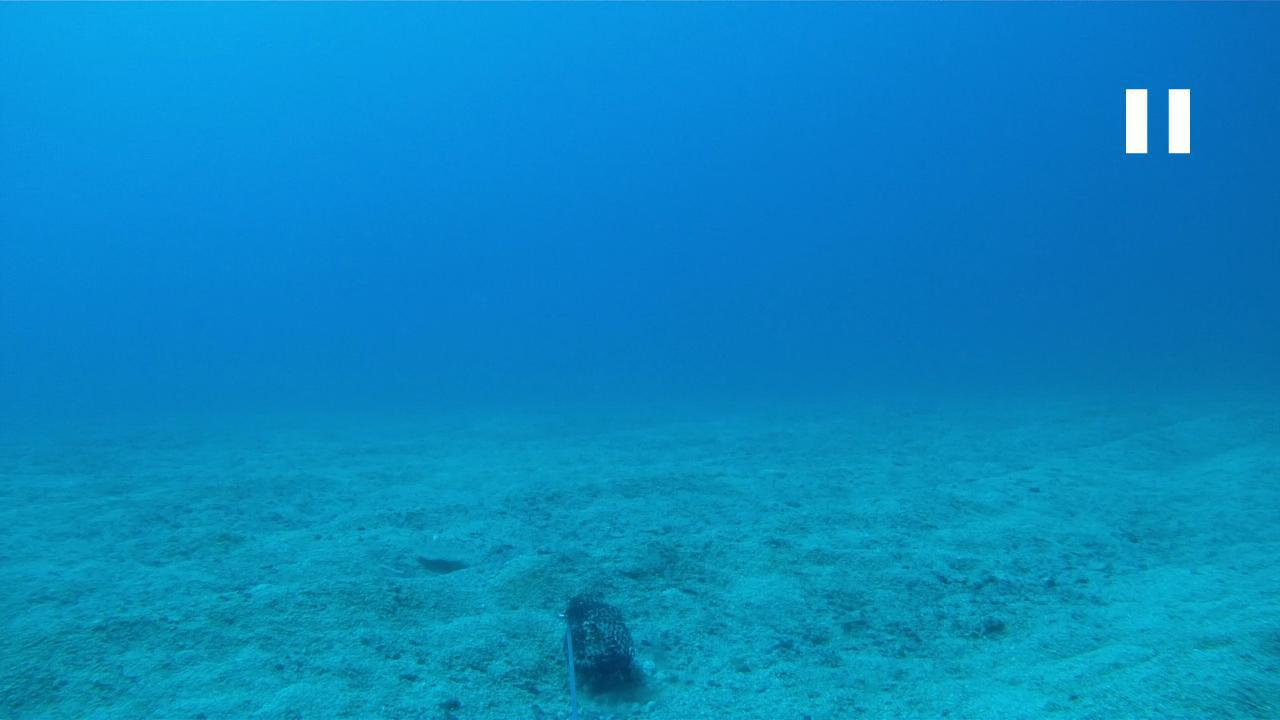bothus: (410, 530, 476, 564)
